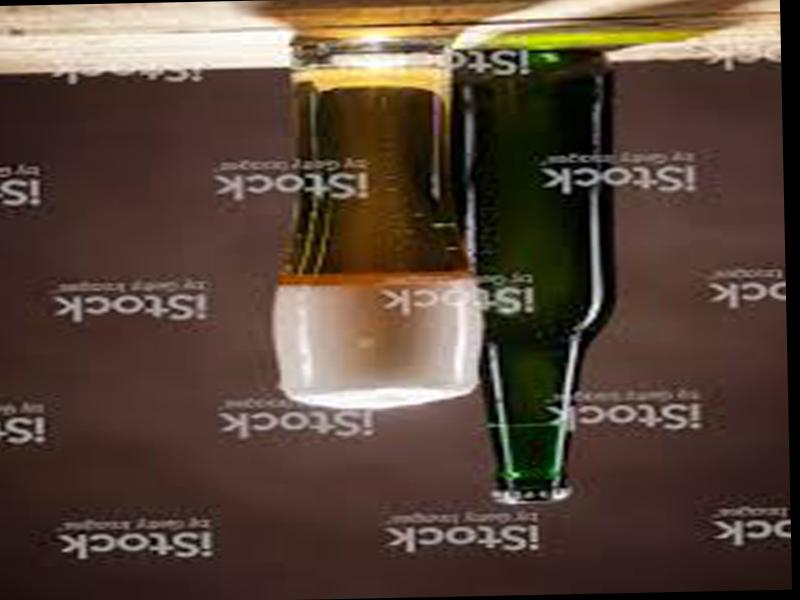Beer: (447, 45, 623, 504)
